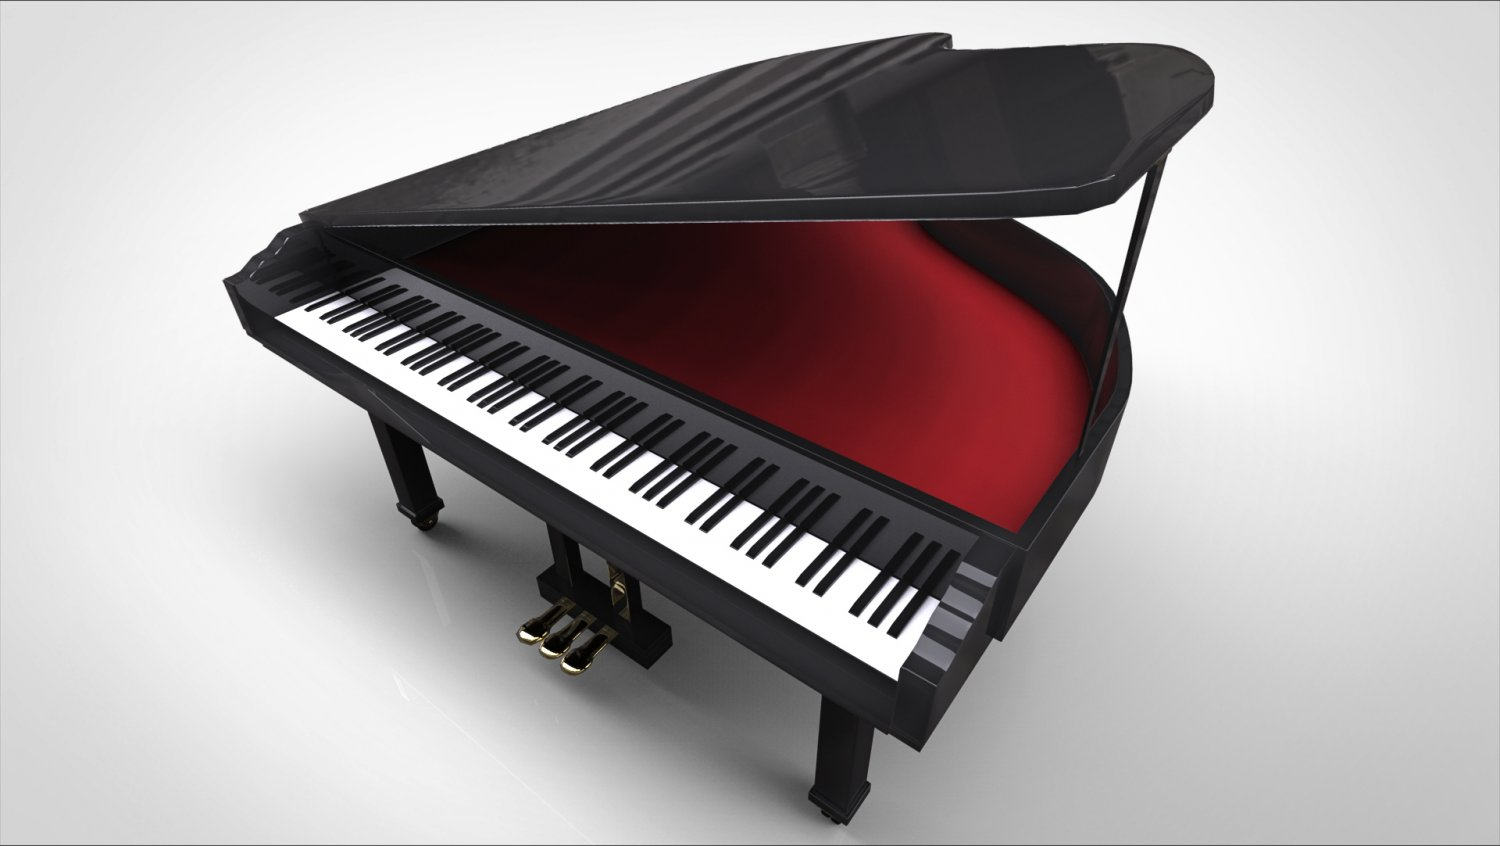GrandPiano: (249, 134, 1137, 715)
